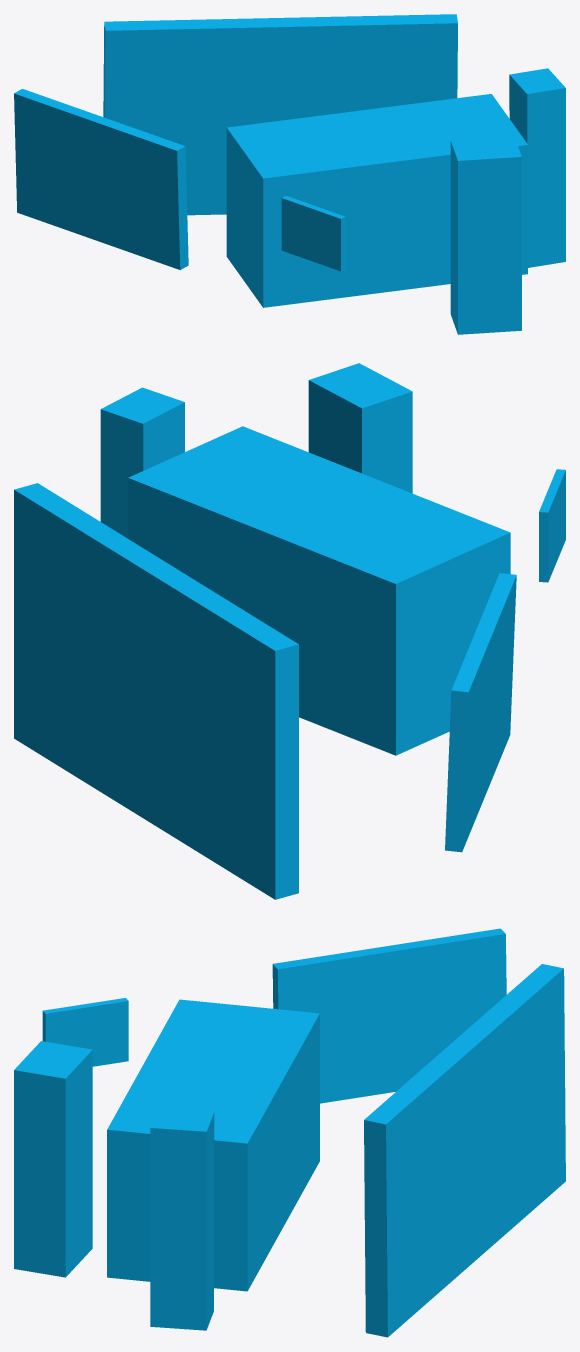
The model's file is FaceWinch_Col.fbx.
The picture shows the model from 3 angles, top to bottom: view 1: azimuth 30°, elevation 25°; view 2: azimuth 150°, elevation 25°; view 3: azimuth 270°, elevation 25°; orthographic projection. The views are drawn at different scales.
Parts seen in each view (by area): view 1: UBX_Winch__1__7, UBX_Cylinder_001_1, UBX_Tool_rack_001_1, UBX_Object_4_002_7, UBX_Object_4_001_001__1_, UBX_Code_of_signals; view 2: UBX_Cylinder_001_1, UBX_Winch__1__7, UBX_Tool_rack_001_1, UBX_Object_4_002_7, UBX_Object_4_001_001__1_, UBX_Code_of_signals; view 3: UBX_Cylinder_001_1, UBX_Winch__1__7, UBX_Tool_rack_001_1, UBX_Object_4_002_7, UBX_Object_4_001_001__1_, UBX_Code_of_signals.
Part boxes in pixels (left/top/right/bottom): UBX_Winch__1__7: left=226, top=94, right=527, bottom=307; UBX_Cylinder_001_1: left=103, top=14, right=457, bottom=215; UBX_Tool_rack_001_1: left=14, top=89, right=188, bottom=269; UBX_Object_4_002_7: left=450, top=136, right=521, bottom=334; UBX_Object_4_001_001__1_: left=509, top=68, right=565, bottom=267; UBX_Code_of_signals: left=281, top=195, right=345, bottom=271; UBX_Cylinder_001_1: left=14, top=483, right=298, bottom=899; UBX_Winch__1__7: left=128, top=426, right=510, bottom=755; UBX_Tool_rack_001_1: left=445, top=573, right=516, bottom=852; UBX_Object_4_002_7: left=308, top=363, right=412, bottom=493; UBX_Object_4_001_001__1_: left=100, top=387, right=184, bottom=538; UBX_Code_of_signals: left=539, top=469, right=565, bottom=582; UBX_Cylinder_001_1: left=364, top=964, right=565, bottom=1337; UBX_Winch__1__7: left=107, top=999, right=319, bottom=1291; UBX_Tool_rack_001_1: left=272, top=928, right=506, bottom=1103; UBX_Object_4_002_7: left=14, top=1041, right=92, bottom=1277; UBX_Object_4_001_001__1_: left=150, top=1108, right=214, bottom=1330; UBX_Code_of_signals: left=42, top=998, right=128, bottom=1066.
Bounding box in the file's own units: 453 × 202 × 466.
